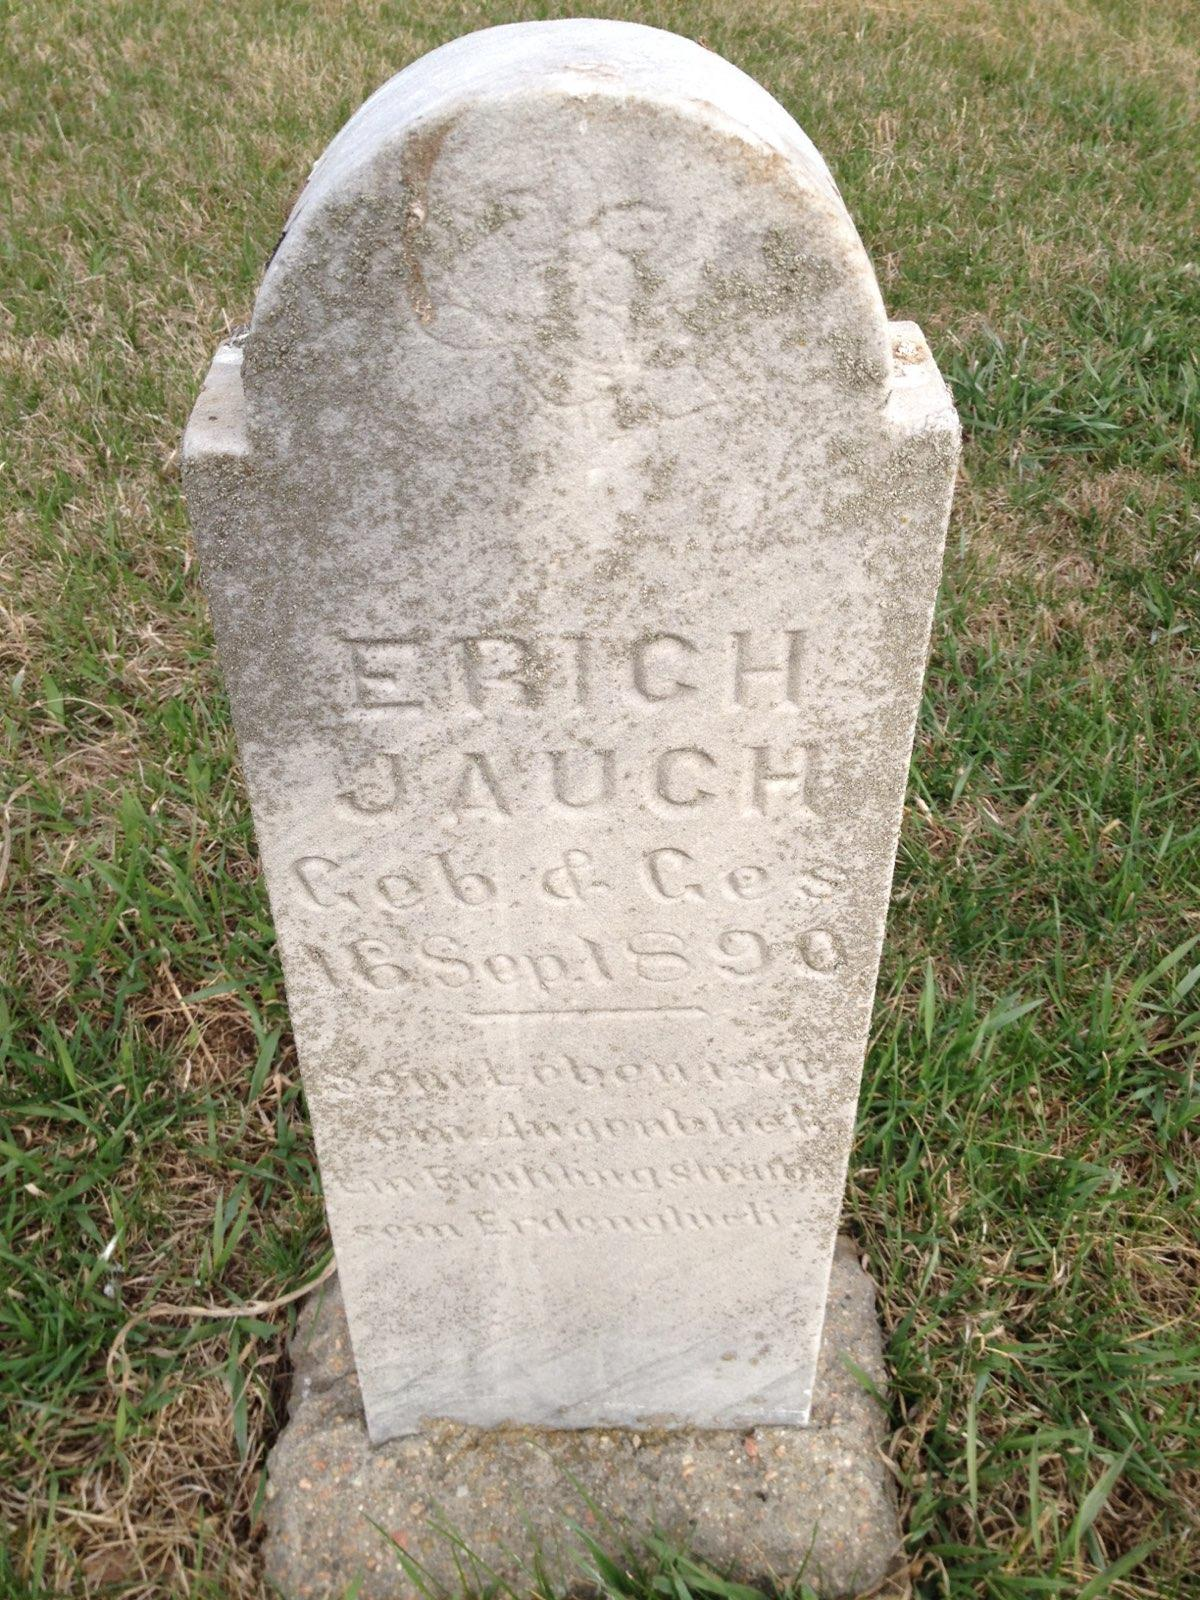upright: (163, 31, 972, 1600)
